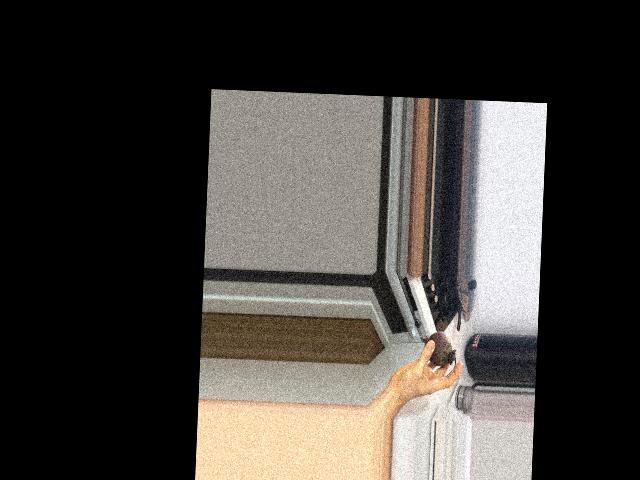beet: (417, 330, 456, 376)
